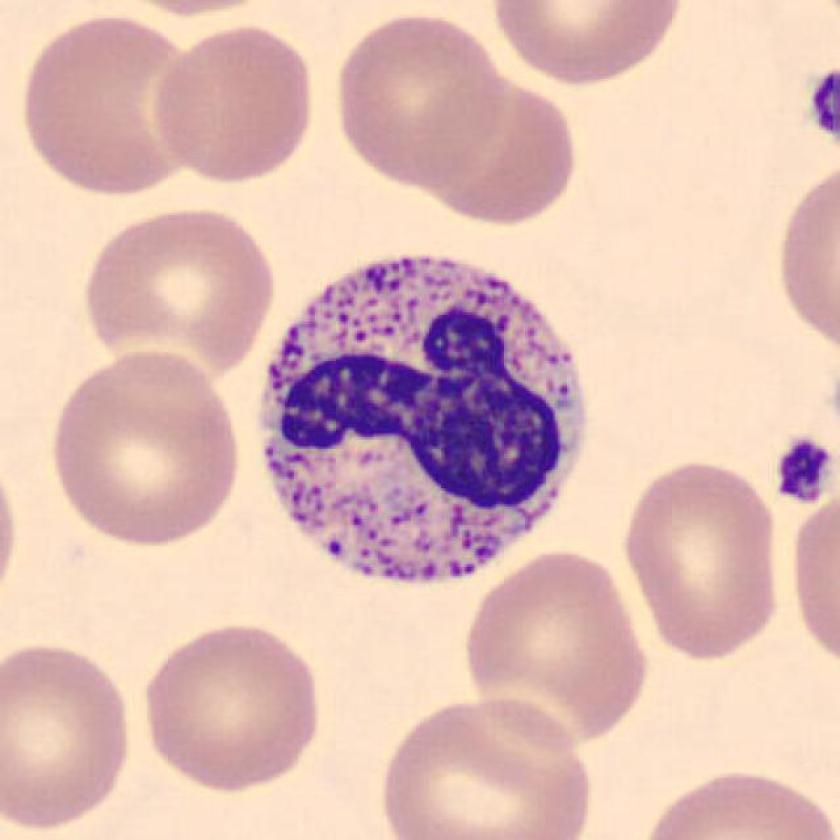neutrophil: (261, 260, 586, 577)
